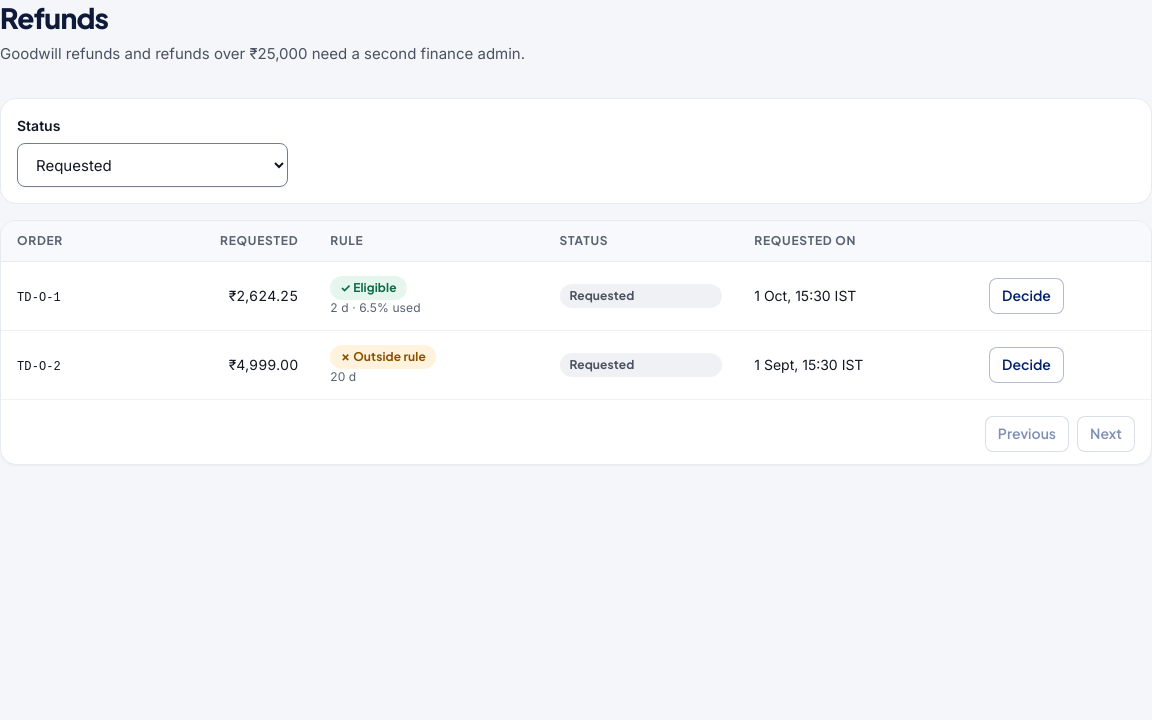
Test: Refunds (FIN-005) › outside the rule is goodwill only and goes to a second finance admin
Click the button with aria-label "Decide refund for TD-O-2" at point(1026, 365), box left=989, top=347, right=1064, bottom=383
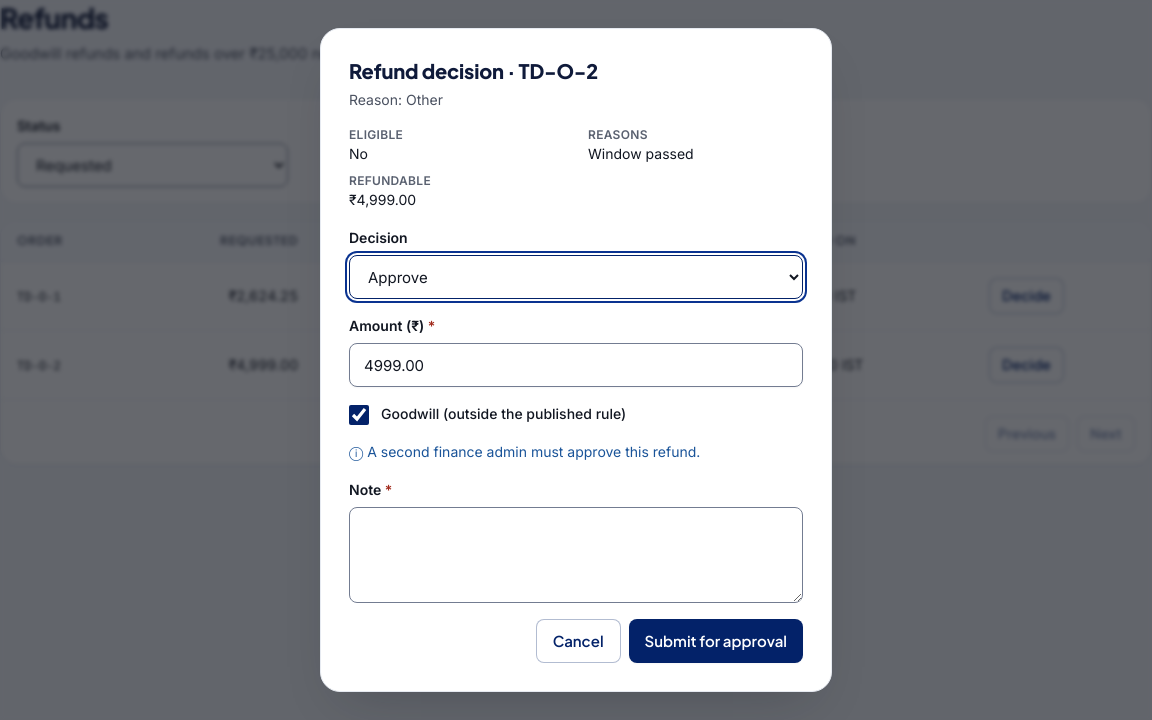
Expected: the checkbox labelled "Goodwill (outside the published rule)" is checked
Expected: the text "ⓘ A second finance admin must approve this refund." is shown, left=349, top=443, right=700, bottom=460
Click the checkbox labelled "Goodwill (outside the published rule)" at point(359, 415), box left=349, top=405, right=369, bottom=425
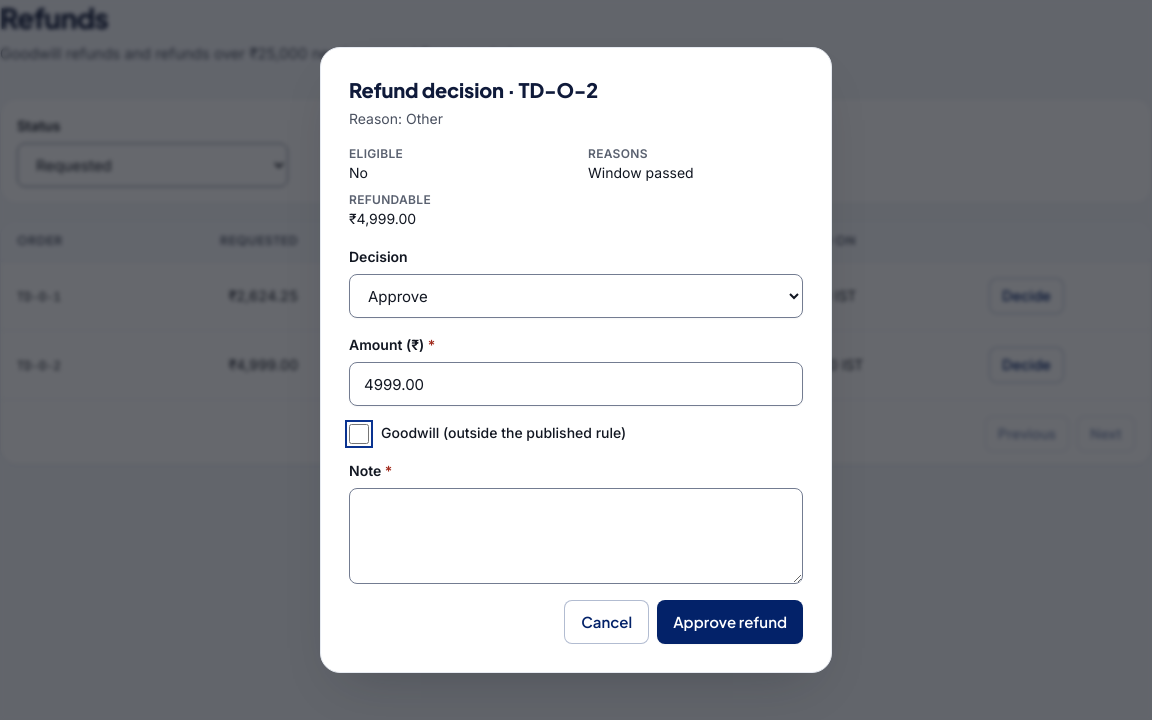
Type "Service outage" into the text box labelled "Note *" at point(576, 536), box left=349, top=488, right=803, bottom=584
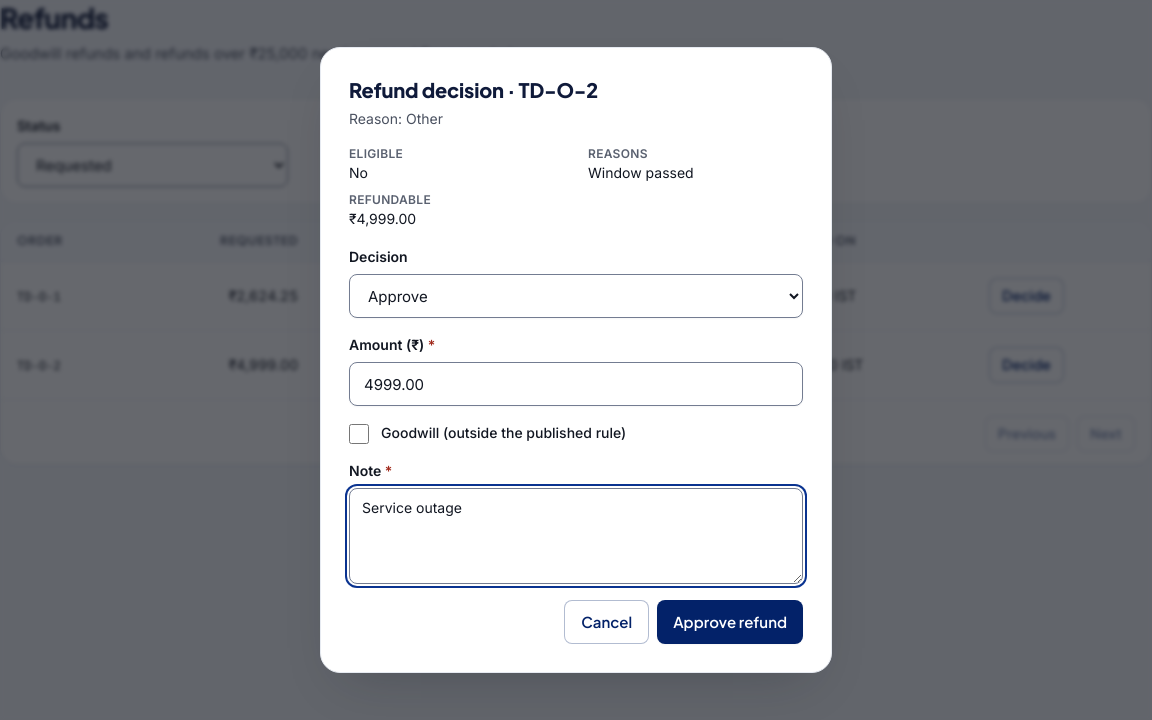
Click the button "Approve refund" at point(730, 622), box left=657, top=600, right=803, bottom=644
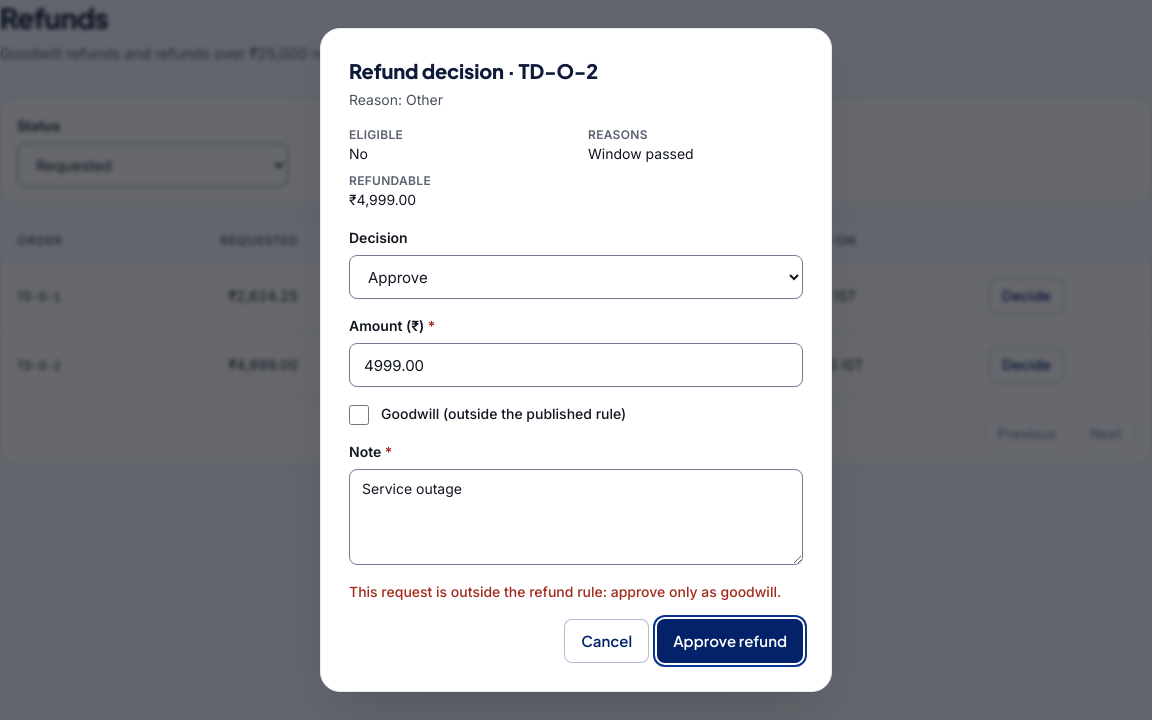
Expected: the text "This request is outside the refund rule: approve only as goodwill." is shown, left=349, top=581, right=803, bottom=603
Click the checkbox labelled "Goodwill (outside the published rule)" at point(359, 415), box left=349, top=405, right=369, bottom=425
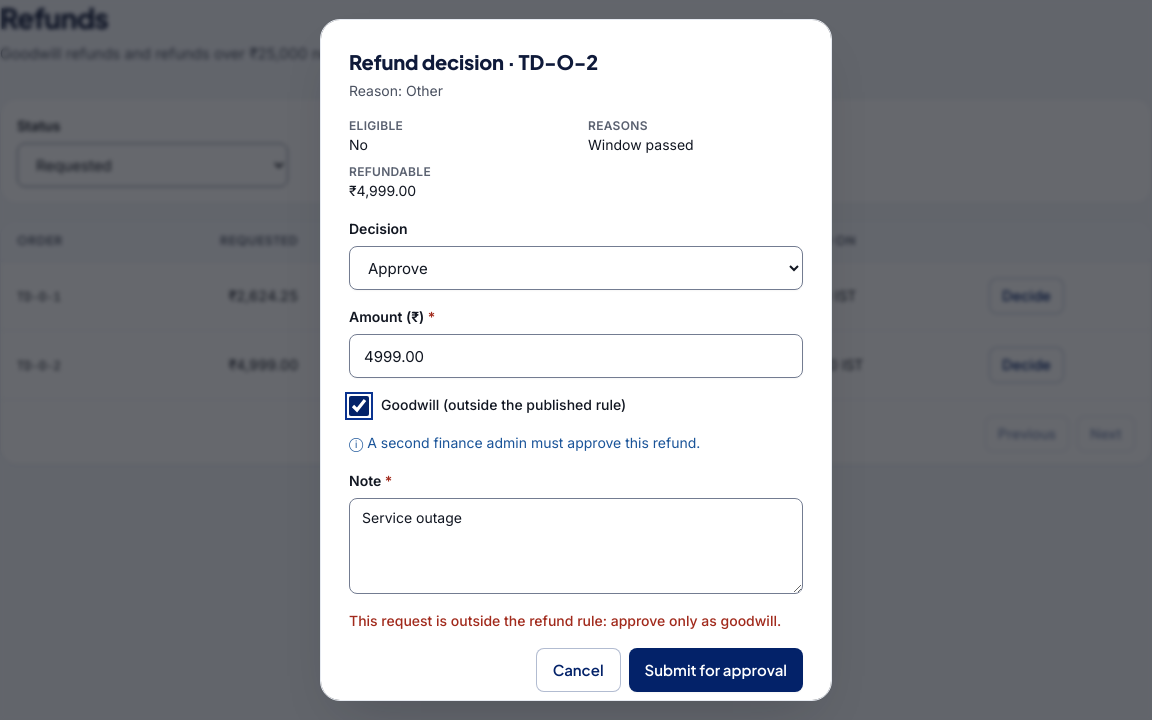
Click the button "Submit for approval" at point(716, 670), box left=629, top=648, right=803, bottom=692
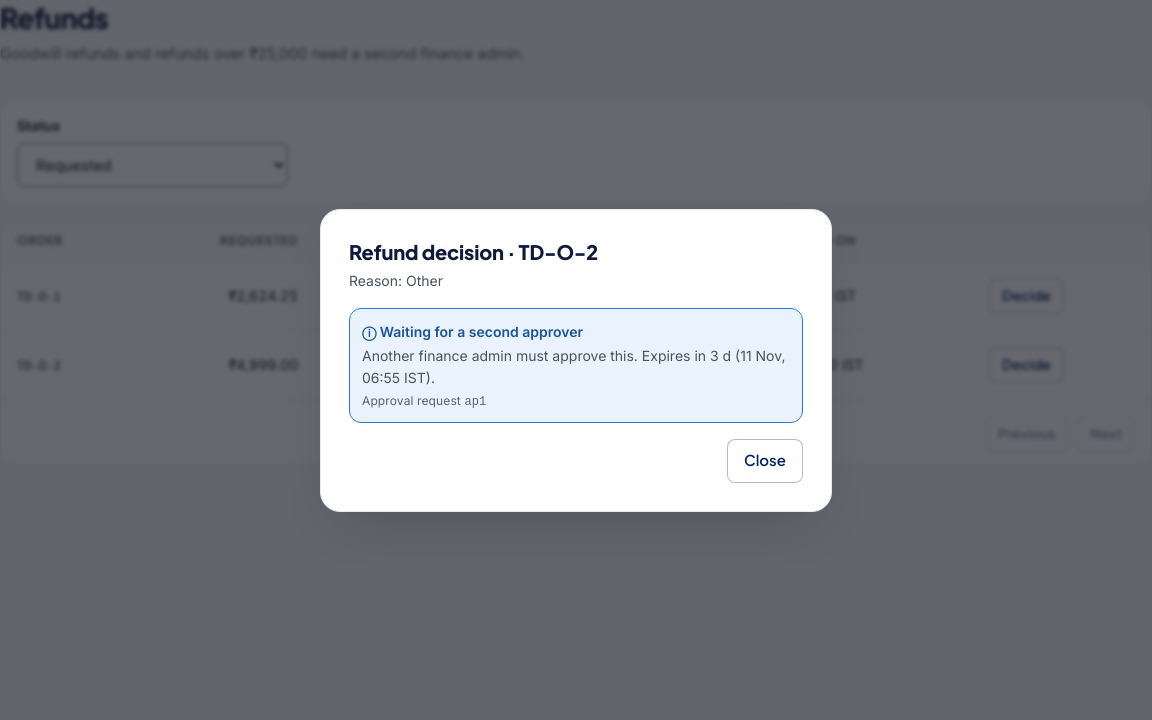
Expected: the text "Waiting for a second approver" is shown, left=380, top=322, right=583, bottom=340
Expected: the text "Another finance admin must approve" is shown, left=362, top=346, right=642, bottom=364
